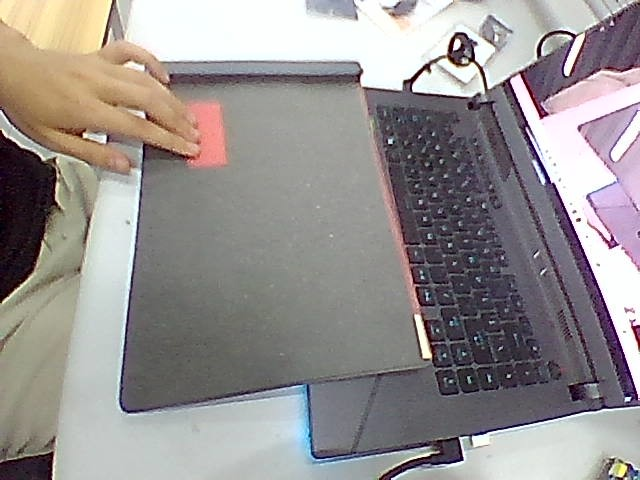card: (187, 101, 225, 168)
